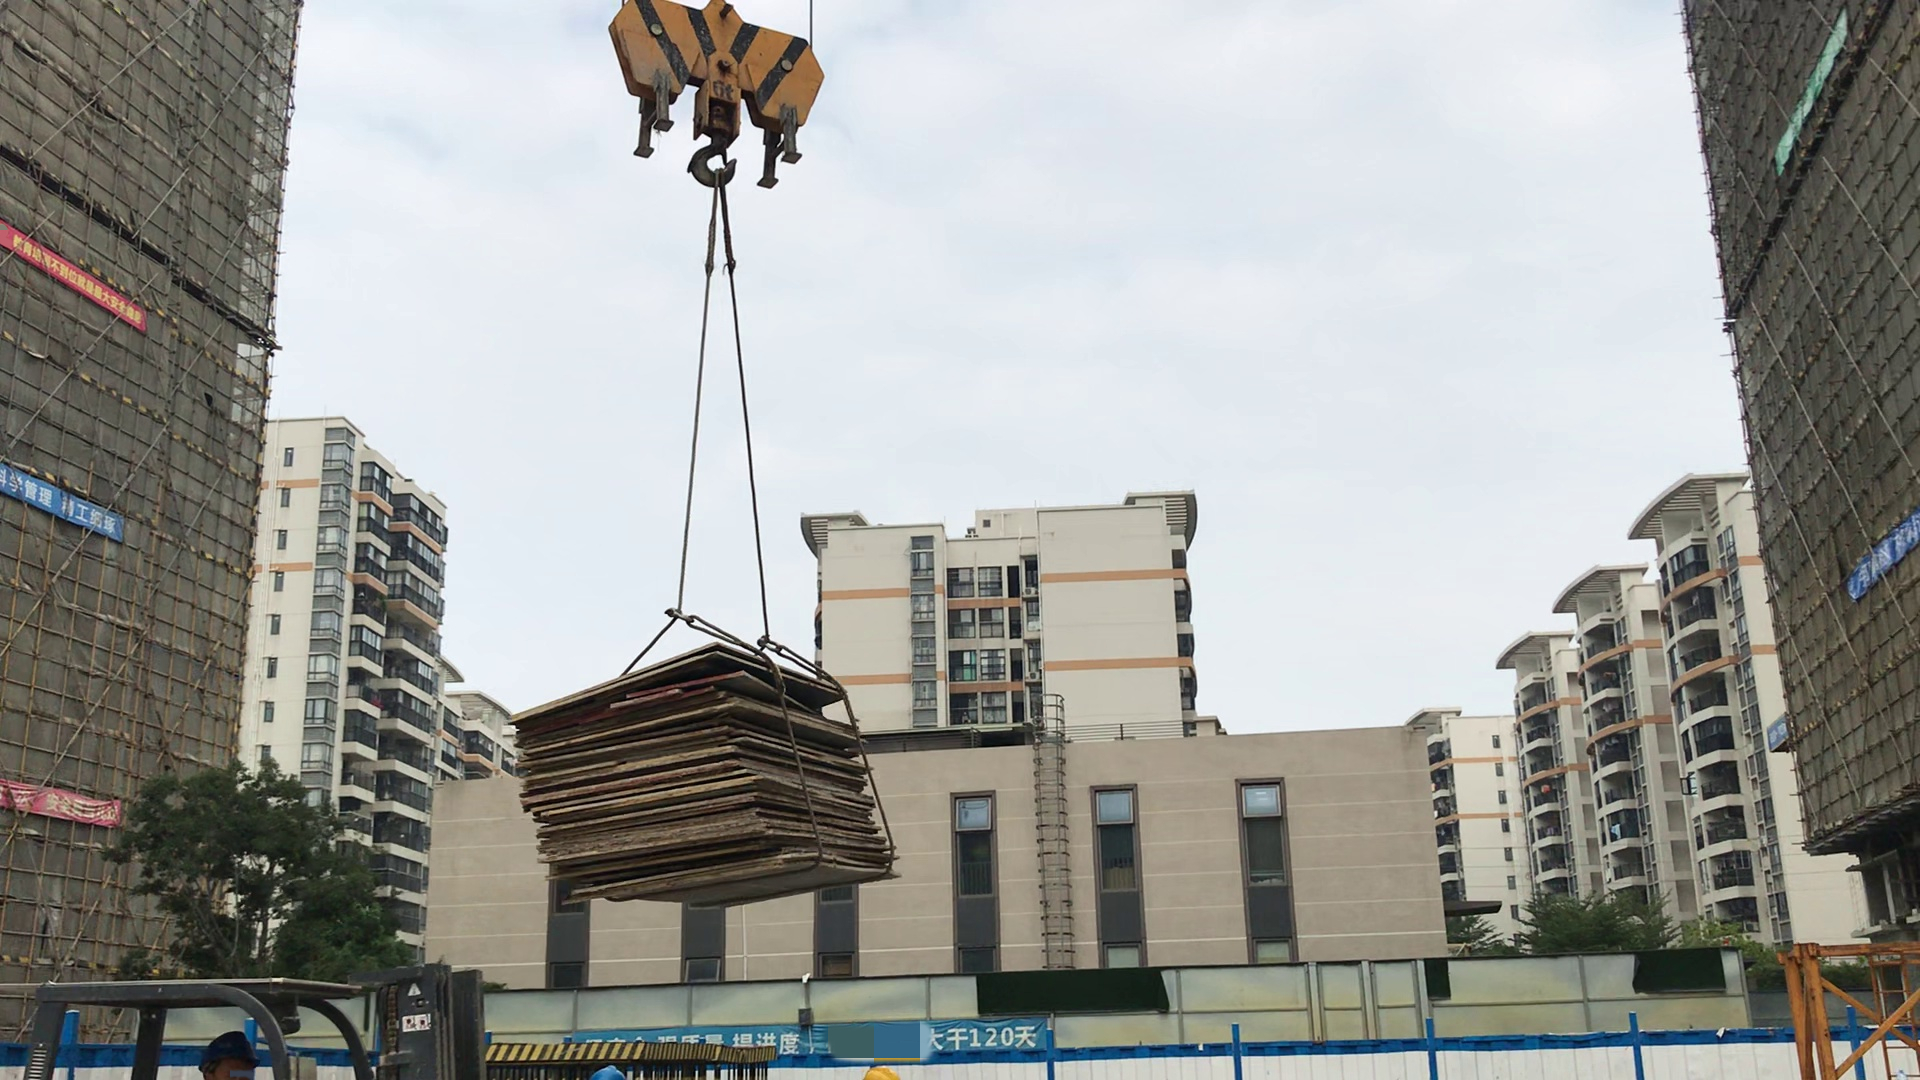board: (503, 627, 937, 923)
helmet: (195, 1028, 267, 1072), (584, 1051, 646, 1080), (852, 1059, 907, 1080)
hook: (563, 3, 896, 278)
person: (192, 1024, 276, 1080)
slogan: (571, 1013, 1044, 1065), (1, 222, 169, 346), (1761, 7, 1865, 189), (1, 446, 131, 564), (2, 762, 134, 861), (1826, 512, 1920, 608), (1761, 712, 1802, 749)
